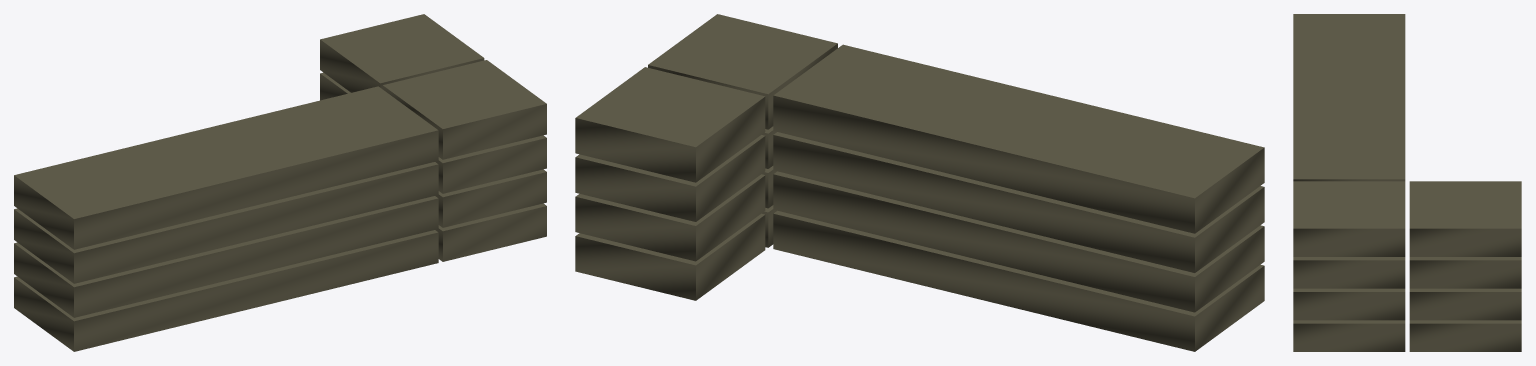
The model's file is SM_SacosRemateEspejo_v0_Recto_e0_Sano_LOD1.fbx.
The picture shows the model from 3 angles, left to right: view 1: azimuth 30°, elevation 25°; view 2: azimuth 150°, elevation 25°; view 3: azimuth 270°, elevation 25°; orthographic projection. The views are drawn at different scales.
Parts seen in each view (by area): view 1: SM_sacos_piezas_v20_LOD1; view 2: SM_sacos_piezas_v20_LOD1; view 3: SM_sacos_piezas_v20_LOD1.
Boxes of the visible parts, x1,y1,x2,y2 form: SM_sacos_piezas_v20_LOD1: (14,14,546,351); SM_sacos_piezas_v20_LOD1: (575,14,1264,351); SM_sacos_piezas_v20_LOD1: (1293,14,1521,351).
Bounding box in the file's own units: 4.36 × 1.17 × 1.96.
